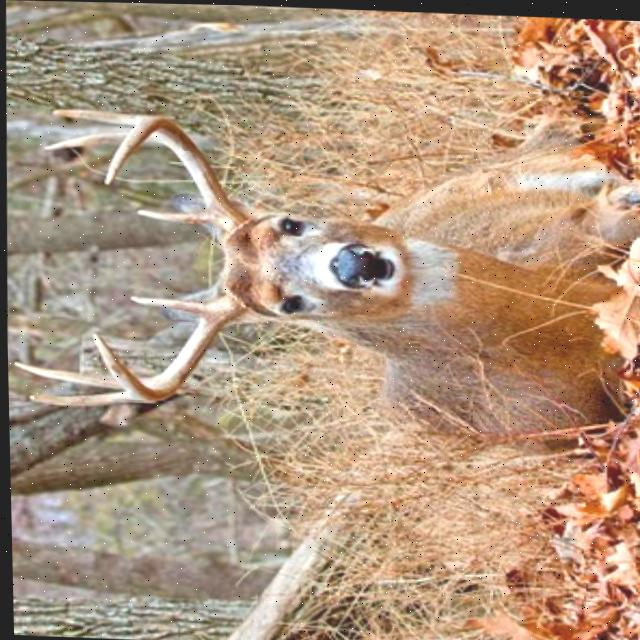L-F: (103, 115, 250, 238)
L-G1: (134, 206, 214, 222)
R-F: (89, 287, 246, 401)
R-G1: (127, 293, 210, 315)
